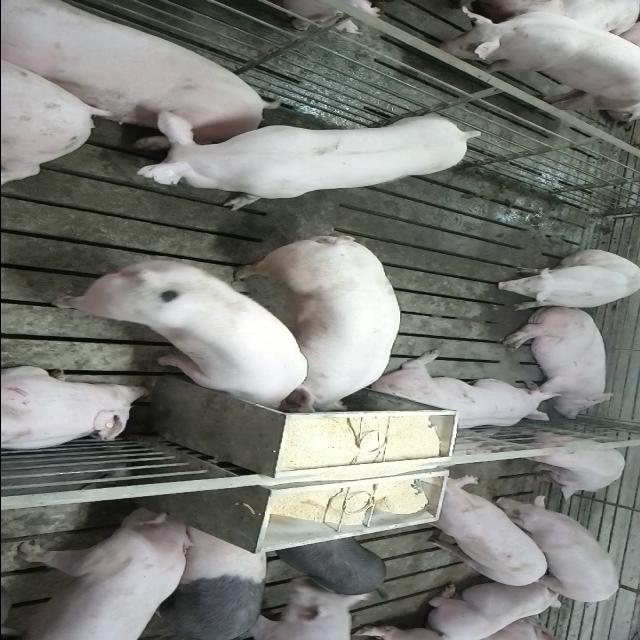Feeding: (51, 262, 310, 420), (230, 242, 402, 420)
Lateral_lying: (500, 305, 618, 418)
Sitting: (492, 250, 640, 312)
Standing: (123, 111, 486, 212), (1, 507, 194, 639), (422, 0, 640, 116), (122, 519, 270, 638), (412, 476, 550, 588), (492, 494, 620, 604), (510, 436, 627, 502), (274, 534, 386, 596)
Sternal_lying: (365, 352, 559, 432), (0, 368, 149, 454), (424, 580, 567, 637)
